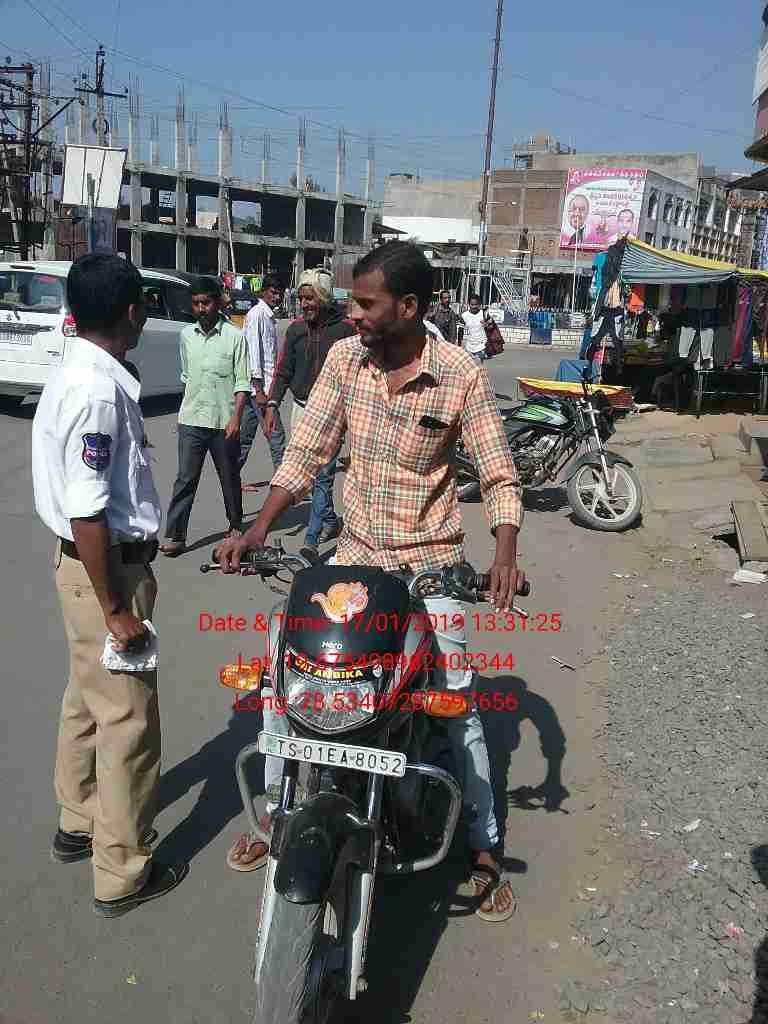plate: (258, 730, 411, 783)
